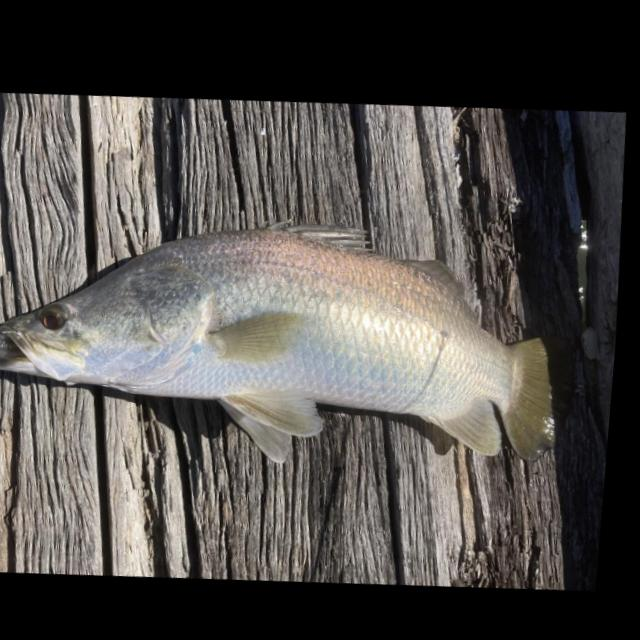Seabass: (0, 195, 594, 495)
